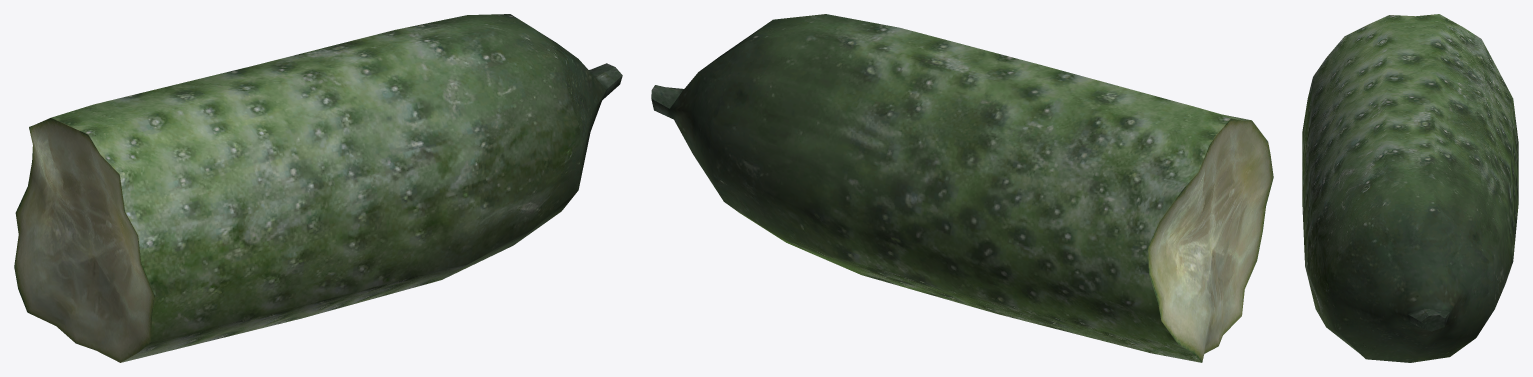
The model's file is Огурец 3 Вариант.fbx.
3 renders of one model, left to right at view 1: azimuth 30°, elevation 25°; view 2: azimuth 150°, elevation 25°; view 3: azimuth 270°, elevation 25°, orthographic. The views are drawn at different scales.
Parts seen in each view (by area): view 1: SM_foo_cucumber_01_c.001; view 2: SM_foo_cucumber_01_c.001; view 3: SM_foo_cucumber_01_c.001.
Part boxes in pixels (x1,y1,x2,y2): SM_foo_cucumber_01_c.001: (14, 14, 622, 362); SM_foo_cucumber_01_c.001: (651, 14, 1273, 362); SM_foo_cucumber_01_c.001: (1302, 14, 1518, 362).
Bounding box in the file's own units: 1331 × 519 × 512.
1 material, 1 textured.
